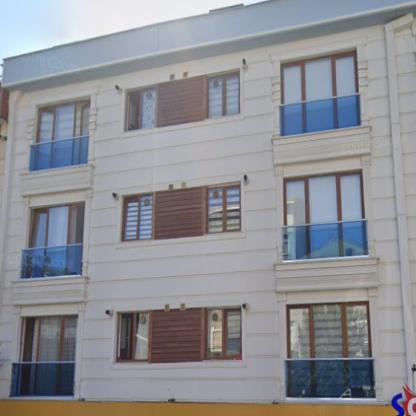window: (287, 304, 370, 358), (286, 172, 364, 224), (282, 54, 357, 104), (28, 203, 83, 247), (22, 318, 77, 361), (36, 100, 90, 143), (206, 309, 241, 358), (207, 184, 239, 233), (118, 313, 149, 359), (208, 73, 238, 117), (123, 194, 153, 238), (126, 88, 154, 131)
